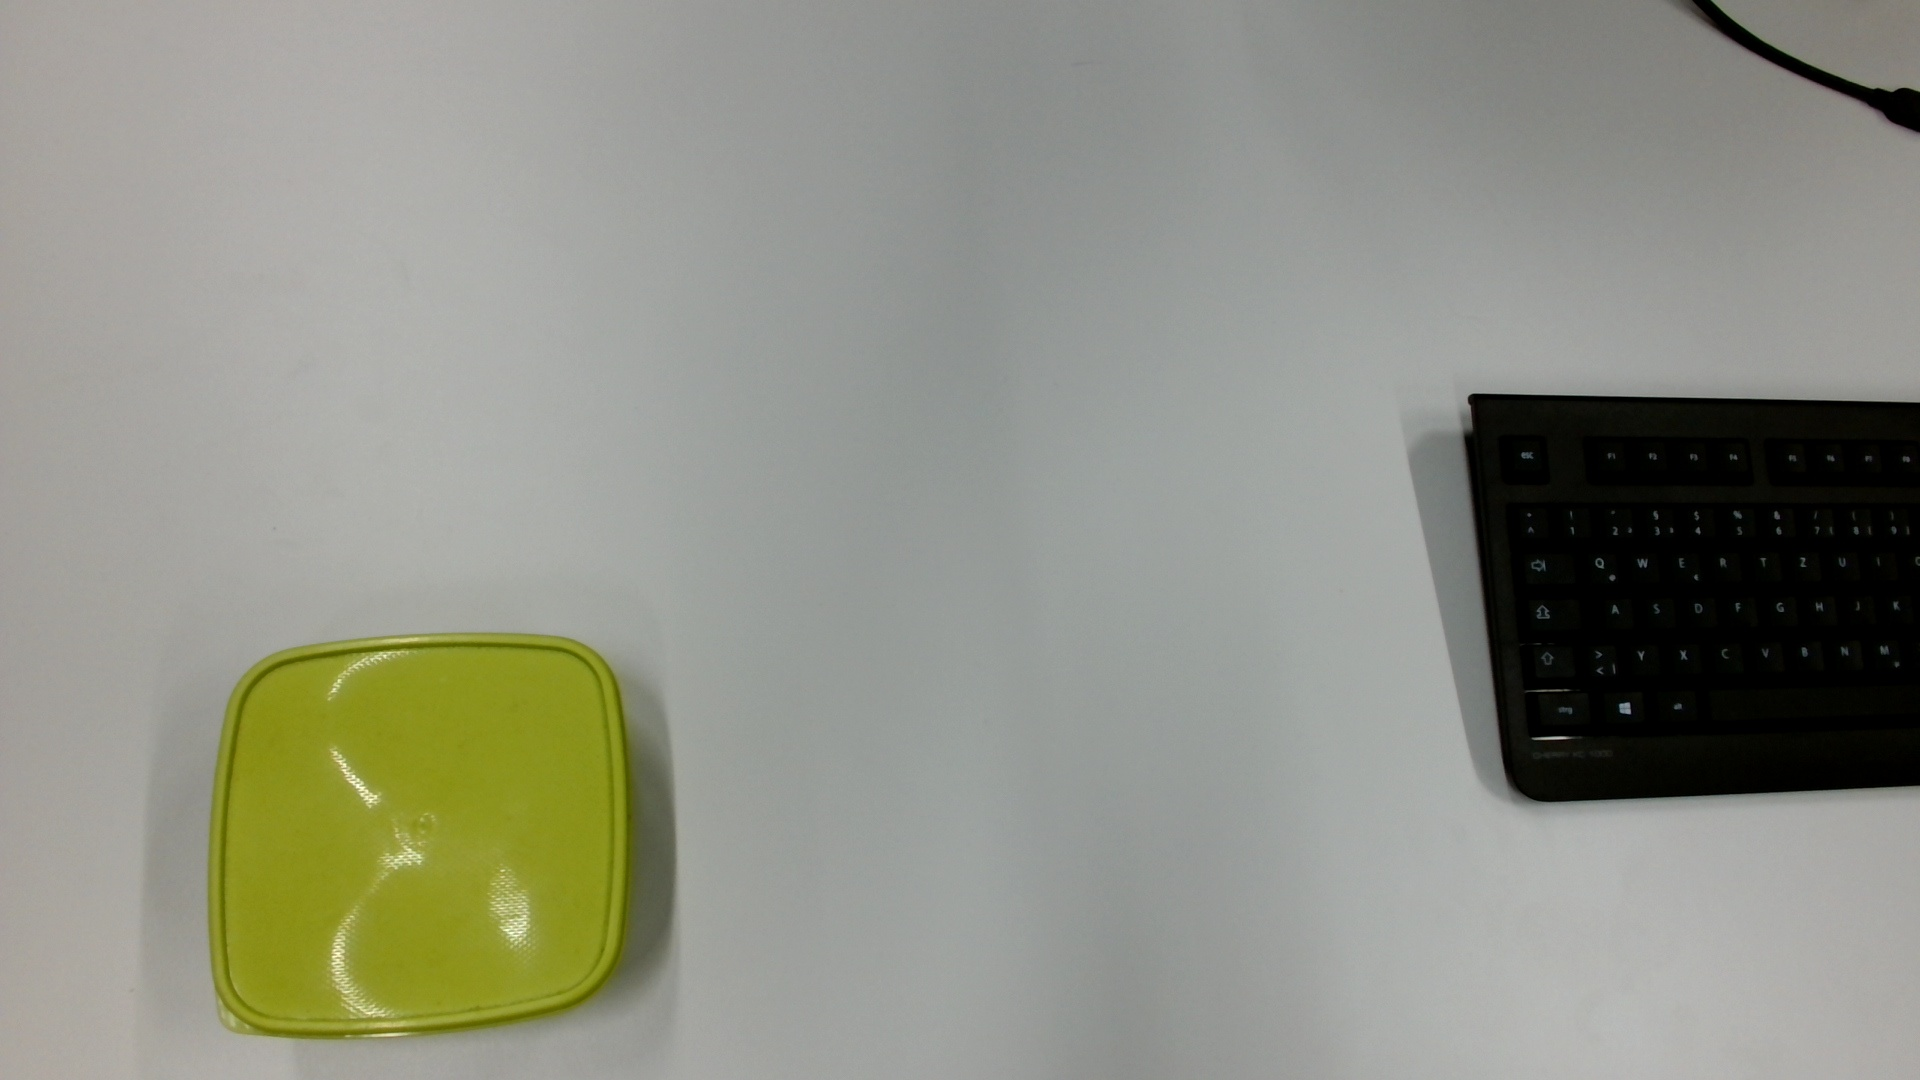Box: (200, 628, 644, 1046)
